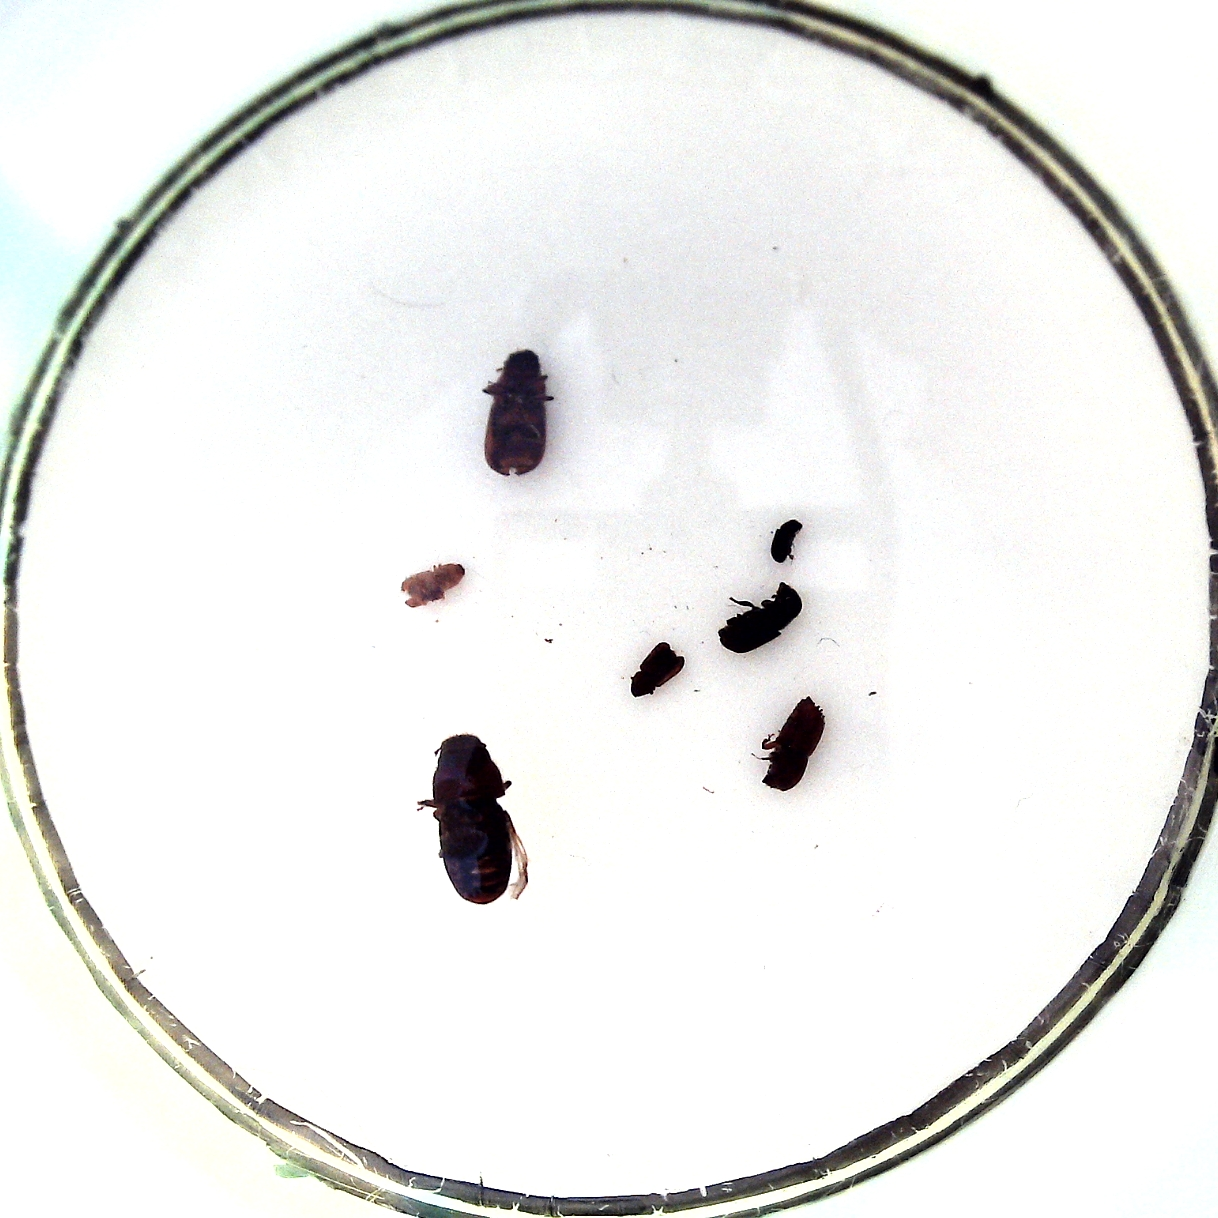Leconte: (432, 733, 513, 905), (483, 349, 547, 477)
acuminatus: (770, 519, 803, 563)
armandi: (718, 582, 802, 652)
coleoptera: (630, 641, 685, 697), (402, 563, 465, 608)
linnaeus: (761, 696, 825, 792)
